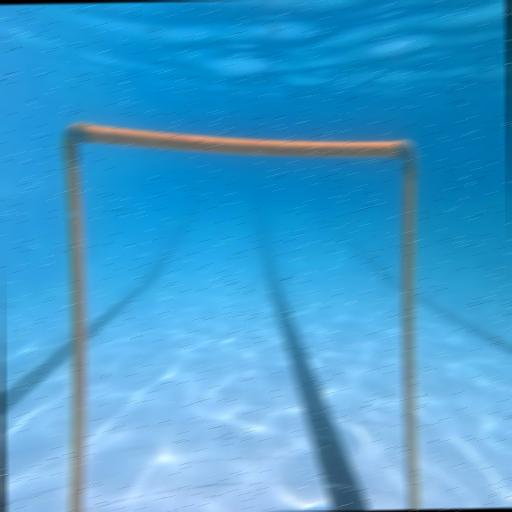gate: (62, 116, 422, 512)
